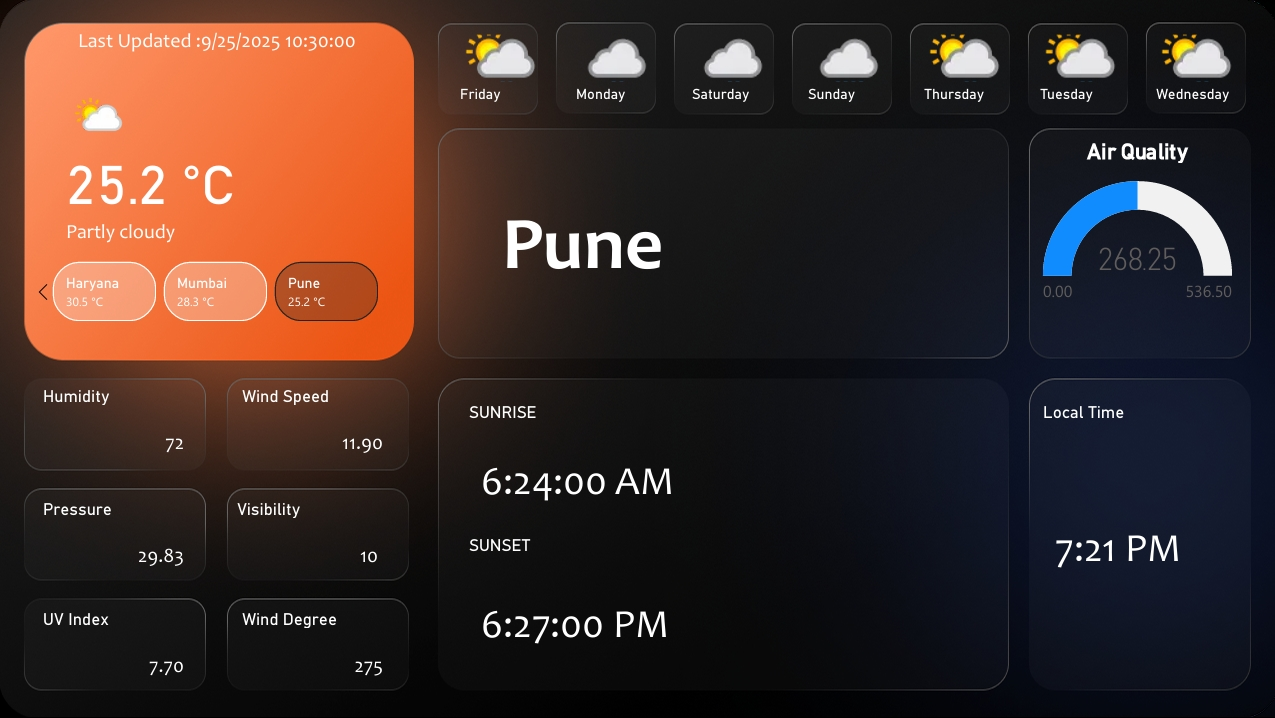

Layout of this report page (visuals, bound fields, positions):
{"tool":"powerbi","page":{"name":"Page 1","canvas":[1280,720],"ordinal":0},"visuals":[{"type":"advancedSlicerVisual","fields":{"Values":["Location.location.name"]},"box":[29.1,256.6,375.8,69.3],"z":0},{"type":"cardVisual","title":"tittle","fields":{"Data":["Current.Current_temp_c"]},"box":[49.7,103.9,393,152.1],"z":1000},{"type":"cardVisual","fields":{"Data":["Min(Current.current.condition.text)"]},"box":[49.7,162.6,305.7,128],"z":2000},{"type":"cardVisual","fields":{"Data":["Min(Location.location.name)"]},"box":[486.4,171.7,388.5,132.5],"z":3000},{"type":"cardVisual","fields":{"Data":["Current.Last_updated_date"]},"box":[31.9,3.3,343,64.9],"z":4000},{"type":"cardVisual","fields":{"Data":["Min(Current.current.condition.icon)"]},"box":[39.2,67.8,114.4,103.9],"z":5000},{"type":"cardVisual","title":"Humidity","fields":{"Data":["Sum(Current.current.humidity)"]},"box":[39,385.9,163.7,72.8],"z":6000},{"type":"cardVisual","title":"UV Index","fields":{"Data":["Sum(Current.current.uv)"]},"box":[39,609.5,163.7,72.8],"z":7000},{"type":"cardVisual","title":"Visibility","fields":{"Data":["Sum(Current.current.vis_km)"]},"box":[232.6,499,163.7,72.8],"z":8000},{"type":"cardVisual","title":"Pressure","fields":{"Data":["Sum(Current.current.pressure_in)"]},"box":[39,499,163.7,72.8],"z":9000},{"type":"cardVisual","title":"Wind Speed","fields":{"Data":["Sum(Current.current.wind_kph)"]},"box":[237.8,385.9,163.7,72.8],"z":10000},{"type":"cardVisual","title":"Wind Degree","fields":{"Data":["Sum(Current.current.wind_degree)"]},"box":[237.8,609.5,163.7,72.8],"z":11000},{"type":"advancedSlicerVisual","fields":{"Values":["Forcast_day.Day_name"]},"box":[443,17,814.3,103.3],"z":12000},{"type":"cardVisual","title":"SUNRISE","fields":{"Data":["Min(Forcast_day.forecast.forecastday.astro.sunrise)"]},"box":[465.3,402.1,385.5,129.5],"z":13000},{"type":"cardVisual","title":"SUNSET","fields":{"Data":["Min(Forcast_day.forecast.forecastday.astro.sunset)"]},"box":[465.3,534.6,388.5,150.6],"z":14000},{"type":"gauge","title":"Air Quality","fields":{"Y":["Sum(Current.current.air_quality.co)"]},"box":[1039.1,138.5,198.8,186.7],"z":15000},{"type":"cardVisual","title":"Local Time","fields":{"Data":["Min(Forcast_day.location.localtime)"]},"box":[1039.1,402.1,198.8,263.5],"z":16000}]}

Visuals, with their boxes in screenshot pixels (x1, y1, x2, y2), scaled from the page's 1280x720 canvas onto the 1275x718 screenshot:
advancedSlicerVisual - Location.location.name: select_region(29, 256, 403, 325)
"tittle" cardVisual: select_region(50, 104, 441, 255)
cardVisual - Min(Current.current.condition.text): select_region(50, 162, 354, 290)
cardVisual - Min(Location.location.name): select_region(484, 171, 871, 303)
cardVisual - Current.Last_updated_date: select_region(32, 3, 373, 68)
cardVisual - Min(Current.current.condition.icon): select_region(39, 68, 153, 171)
"Humidity" cardVisual: select_region(39, 385, 202, 457)
"UV Index" cardVisual: select_region(39, 608, 202, 680)
"Visibility" cardVisual: select_region(232, 498, 395, 570)
"Pressure" cardVisual: select_region(39, 498, 202, 570)
"Wind Speed" cardVisual: select_region(237, 385, 400, 457)
"Wind Degree" cardVisual: select_region(237, 608, 400, 680)
advancedSlicerVisual - Forcast_day.Day_name: select_region(441, 17, 1252, 120)
"SUNRISE" cardVisual: select_region(463, 401, 847, 530)
"SUNSET" cardVisual: select_region(463, 533, 850, 683)
"Air Quality" gauge: select_region(1035, 138, 1233, 324)
"Local Time" cardVisual: select_region(1035, 401, 1233, 664)
